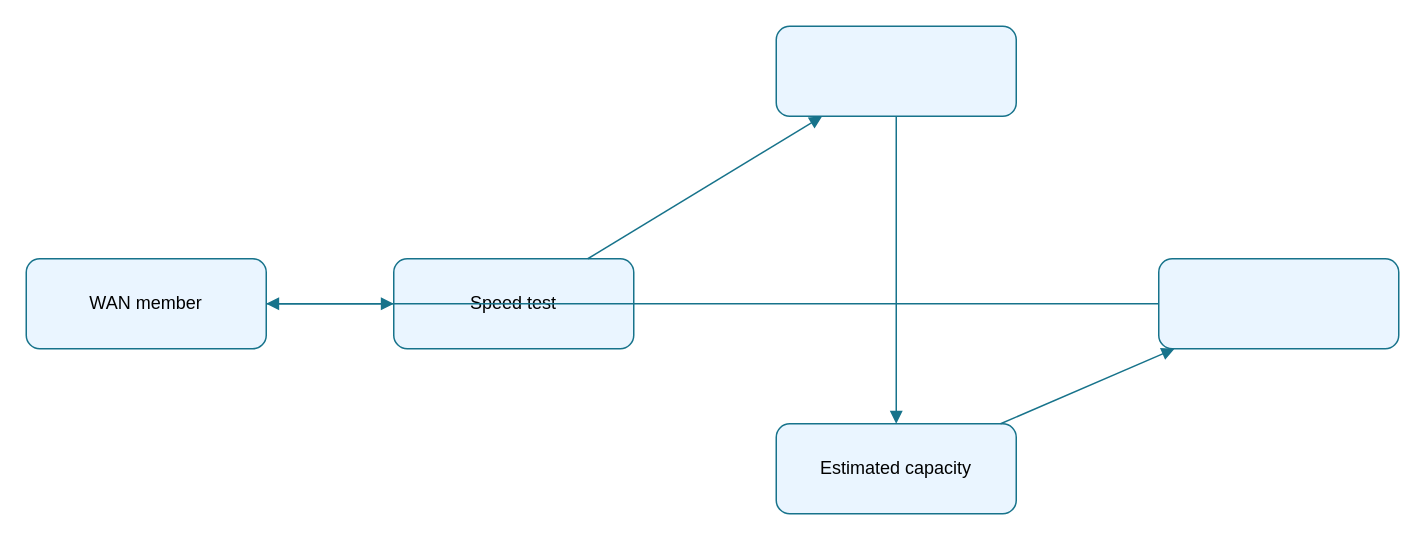
Image size: 1425x540. Some labels were removed from this diagram. The shapes that lost their labels are listed below. From the top down, each one's centre as x and y in pixels, then its label:
(x=895, y=70): Measured capacity
(x=1278, y=303): SD-WAN path choice
